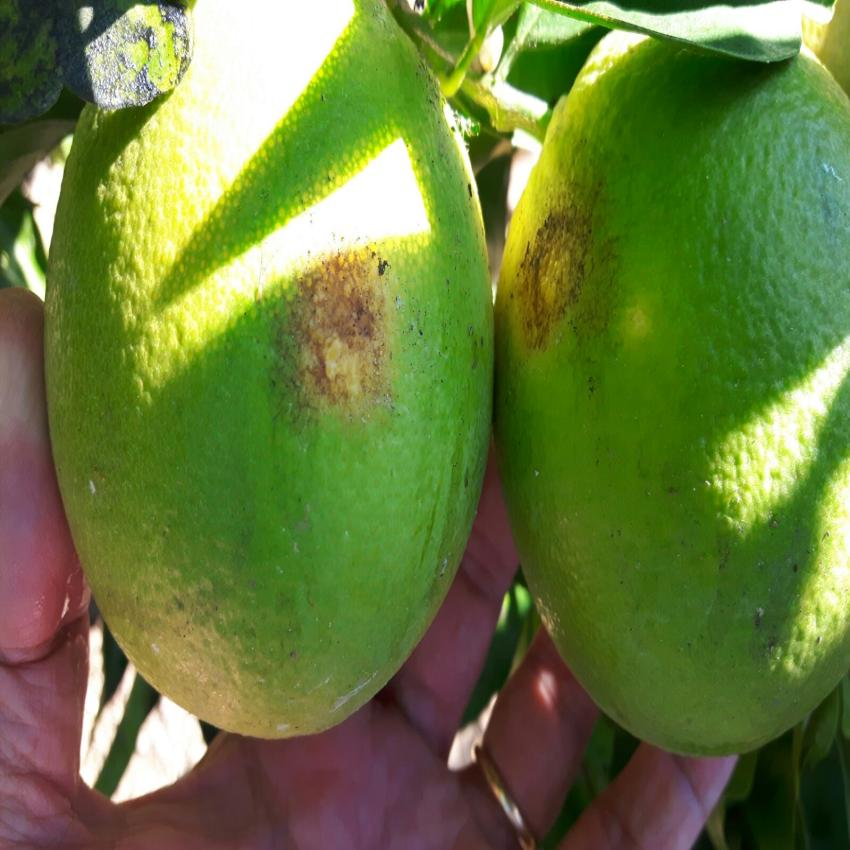Mal estado: (56, 0, 496, 738), (495, 0, 850, 717)
